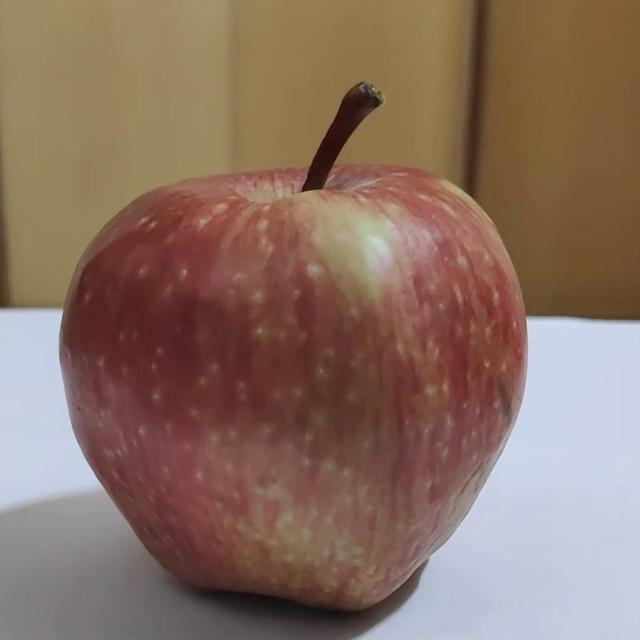Apple: (61, 84, 527, 609)
